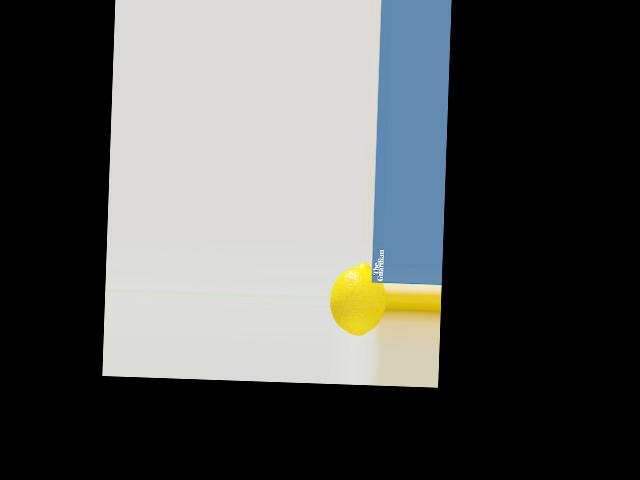lemon: (328, 256, 387, 340)
